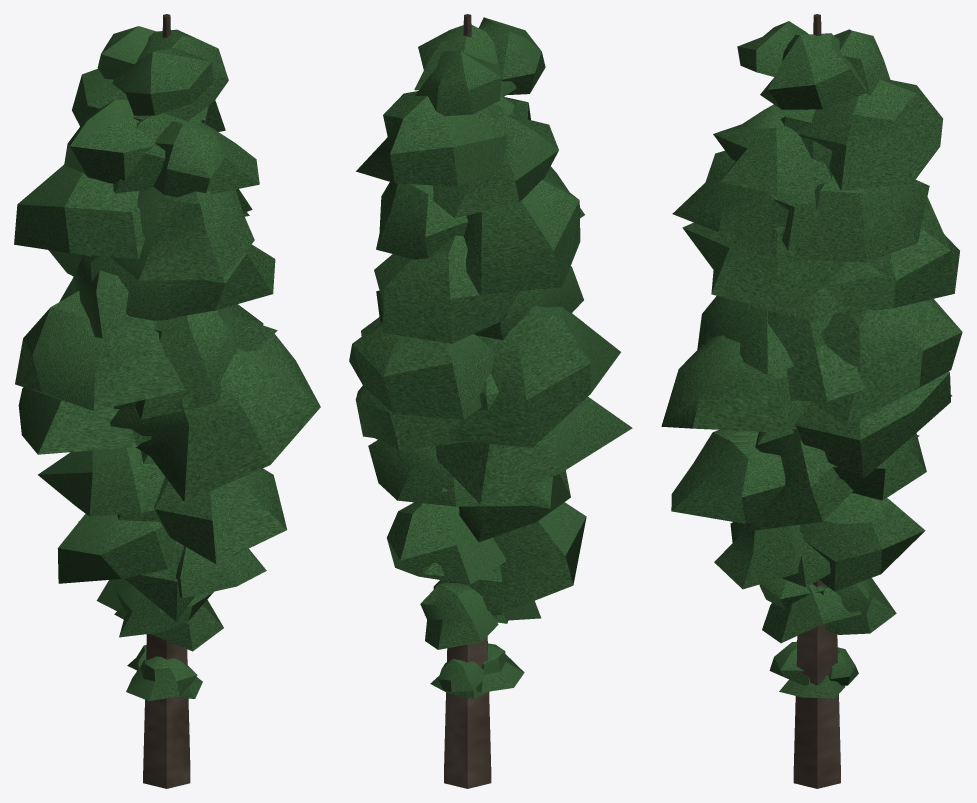
The model's file is ambient_tree_28.glb.
3 renders of one model, left to right at view 1: azimuth 30°, elevation 25°; view 2: azimuth 150°, elevation 25°; view 3: azimuth 270°, elevation 25°, orthographic.
Parts seen in each view (by area): view 1: ambient_tree_28; view 2: ambient_tree_28; view 3: ambient_tree_28.
Part boxes in pixels (box(x1,y1,x2,y2)): ambient_tree_28: box(14, 14, 320, 788); ambient_tree_28: box(349, 14, 632, 788); ambient_tree_28: box(661, 14, 962, 788).
Size of the model in its own units: 3.44 by 9.6 by 3.44.
Materials: 2 (2 with a texture image).
